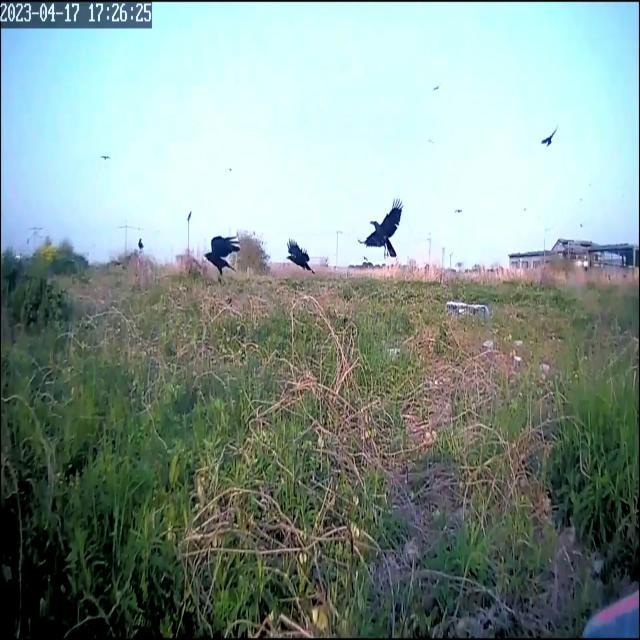bird: (358, 174, 406, 282), (203, 211, 241, 307), (285, 226, 310, 272), (540, 111, 560, 159), (432, 75, 442, 98), (100, 146, 110, 168)
